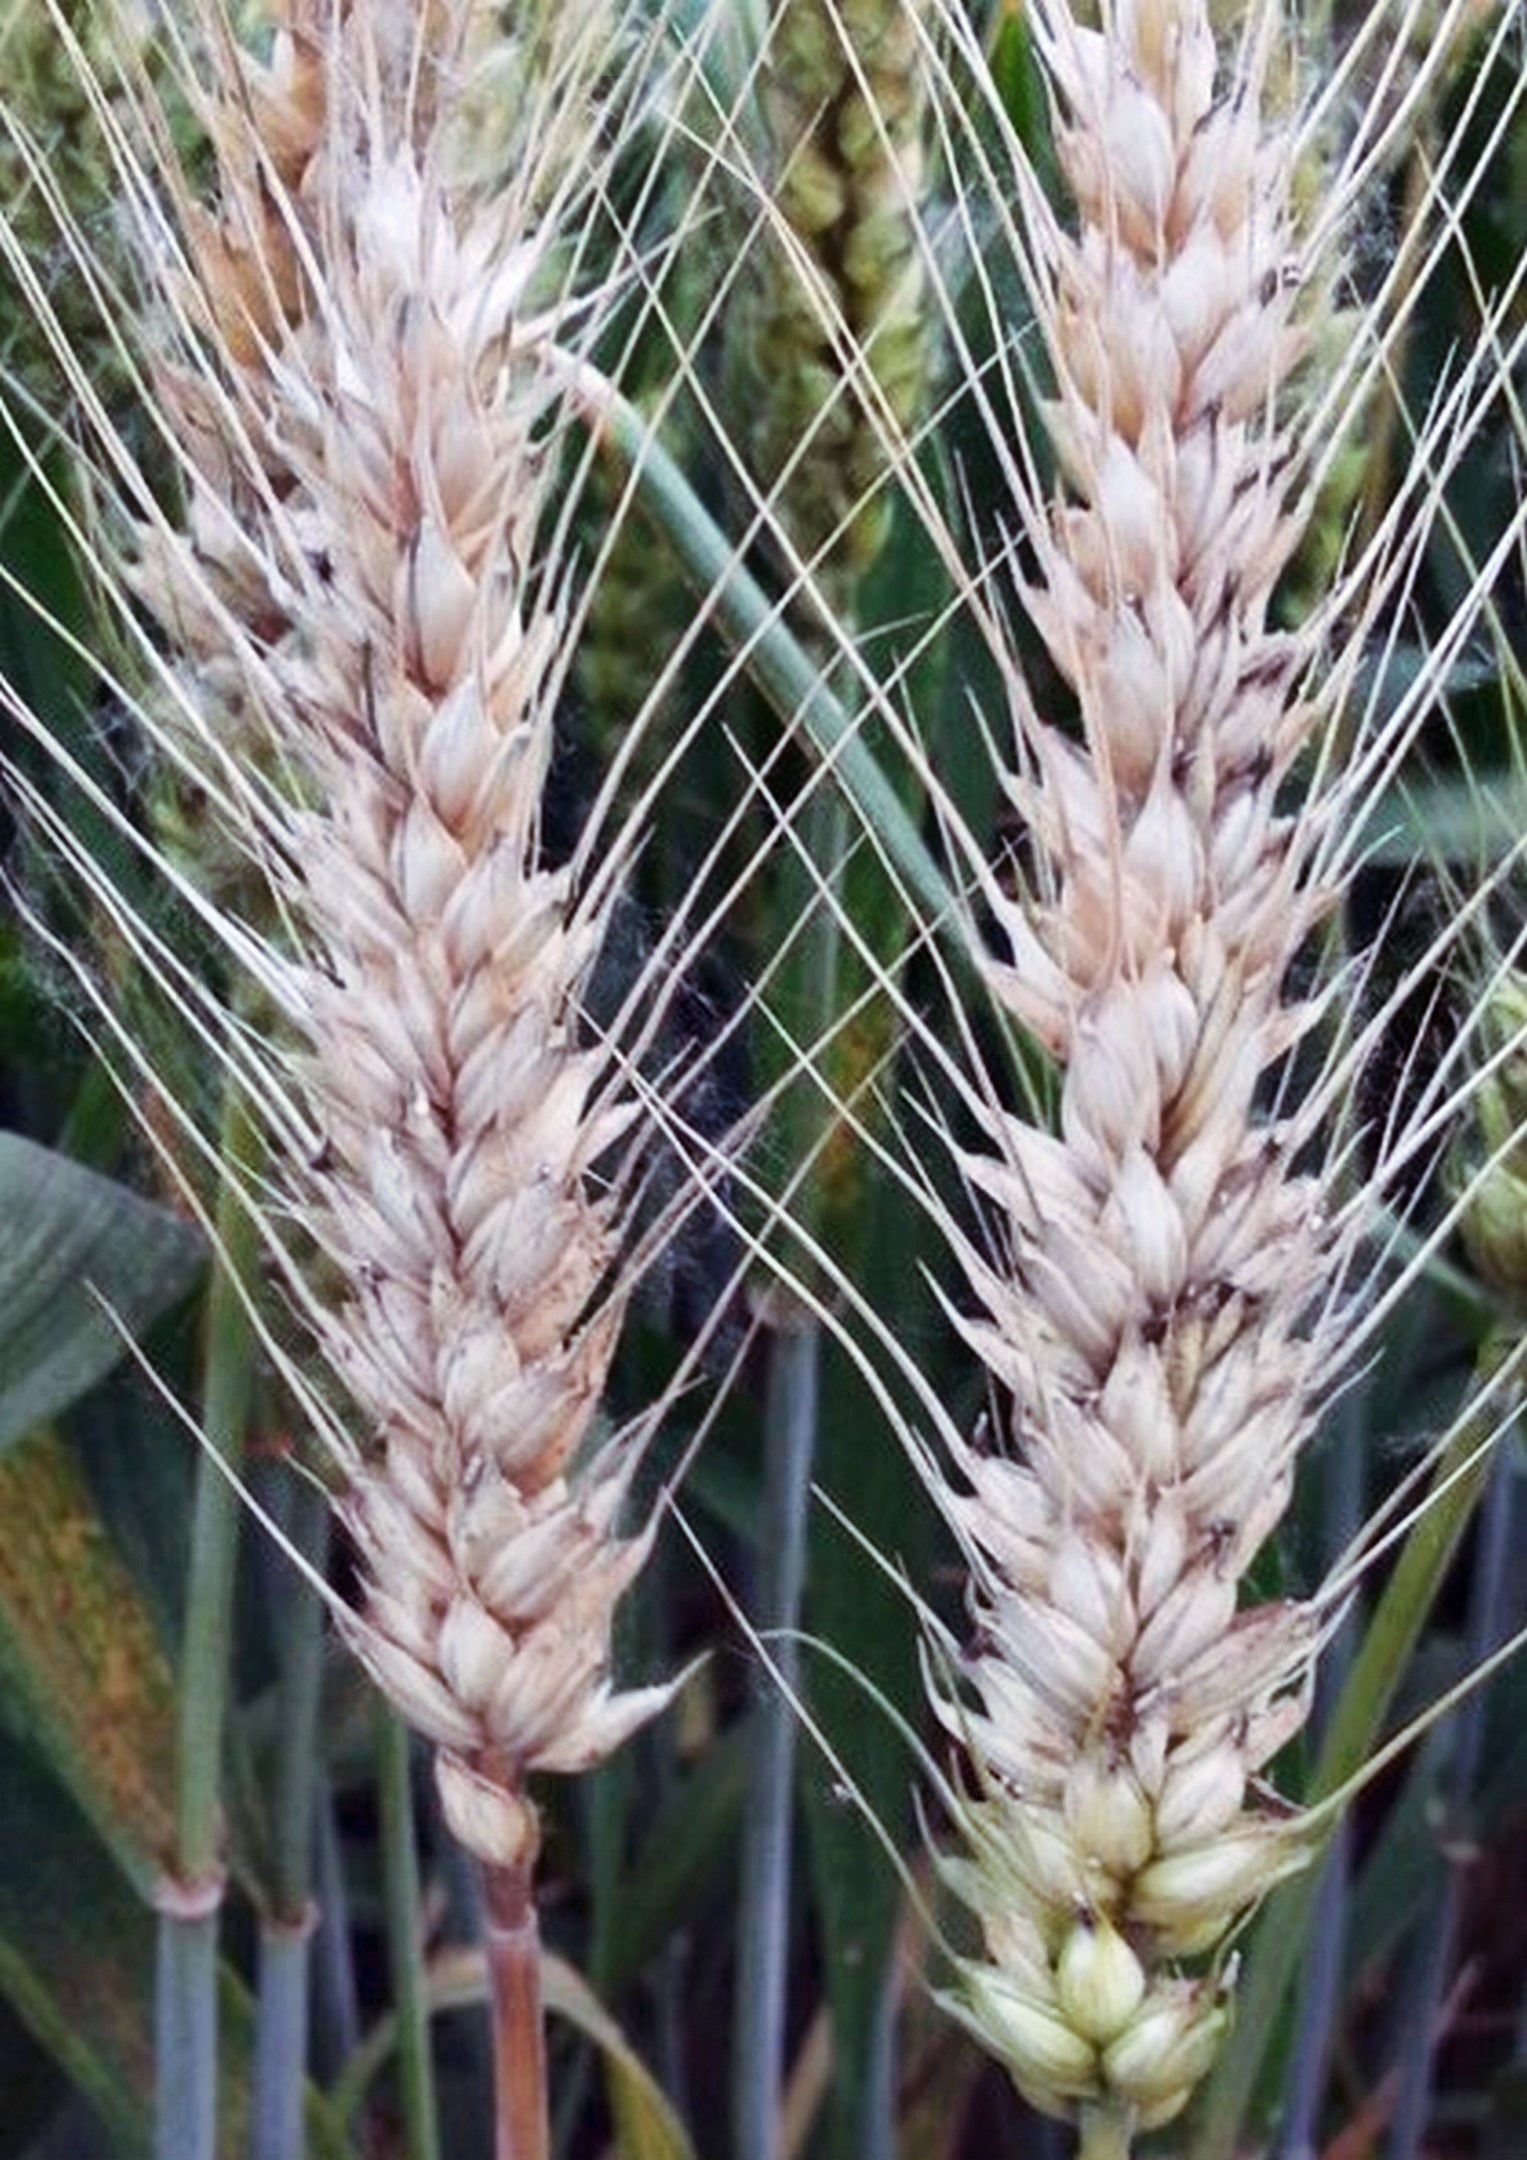Wheat scab: (235, 215, 722, 1790), (906, 906, 1349, 2109)
